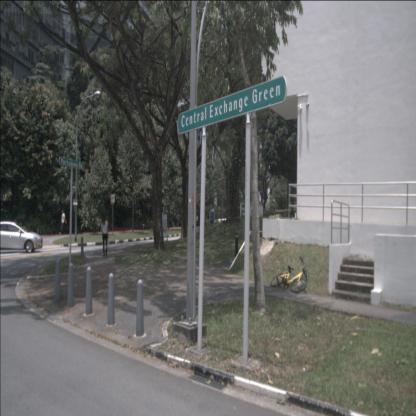human-pedestrian-adult: (101, 212, 109, 257), (59, 208, 67, 235)
vehicle-bicycle: (270, 255, 308, 294)
vehicle-car: (0, 221, 43, 255)
